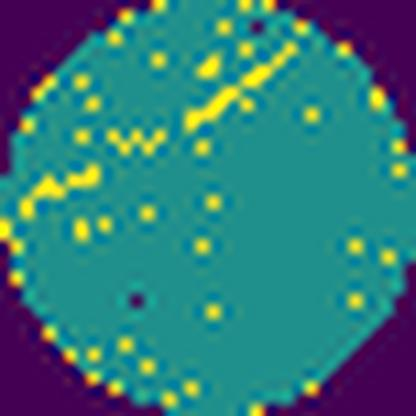Scratch: (178, 40, 304, 134), (20, 160, 105, 224)
